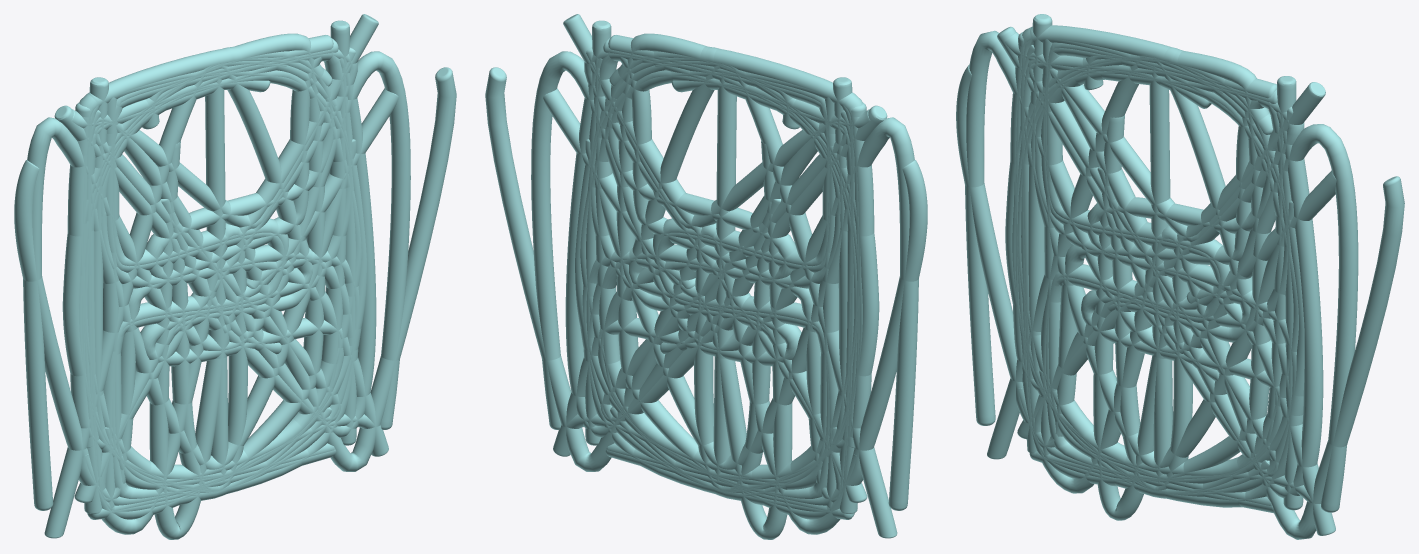
The model's file is NeonSigns.fbx.
The picture shows the model from 3 angles, left to right: view 1: azimuth 30°, elevation 25°; view 2: azimuth 150°, elevation 25°; view 3: azimuth 330°, elevation 25°; orthographic projection.
Visible parts, largest first — view 1: M, W, A, B, Y, N, X, K, H, J, U, V (+12 smaller); view 2: M, W, A, B, Y, N, X, K, H, J, U, V (+12 smaller); view 3: M, W, A, N, B, X, H, Y, K, J, U, E (+12 smaller).
Boxes of the visible parts, box(x1,y1,x2,y2) form: M: box(23, 51, 410, 510); W: box(14, 67, 456, 534); A: box(44, 63, 388, 538); B: box(87, 46, 358, 519); Y: box(54, 14, 378, 490); N: box(67, 58, 376, 482); X: box(74, 47, 355, 502); K: box(149, 88, 398, 539); H: box(75, 52, 356, 502); J: box(79, 33, 325, 505); U: box(89, 20, 349, 490); V: box(87, 110, 356, 469); M: box(531, 51, 918, 510); W: box(485, 67, 927, 534); A: box(553, 63, 897, 538); B: box(583, 46, 854, 519); Y: box(563, 14, 887, 490); N: box(565, 58, 874, 482); X: box(586, 47, 867, 502); K: box(543, 88, 792, 539); H: box(585, 52, 866, 502); J: box(616, 33, 862, 505); U: box(592, 20, 852, 490); V: box(585, 110, 854, 469); M: box(965, 30, 1358, 512); W: box(956, 64, 1404, 539); A: box(987, 55, 1335, 535); N: box(1010, 52, 1323, 498); B: box(1020, 25, 1302, 507); X: box(1017, 59, 1293, 476); H: box(1018, 32, 1303, 510); Y: box(997, 26, 1325, 490); K: box(1093, 115, 1336, 520); J: box(1016, 51, 1271, 479); U: box(1028, 14, 1296, 494); E: box(1045, 42, 1276, 513).
Size of the model in its own units: 10.54 by 10.95 by 0.4159.
